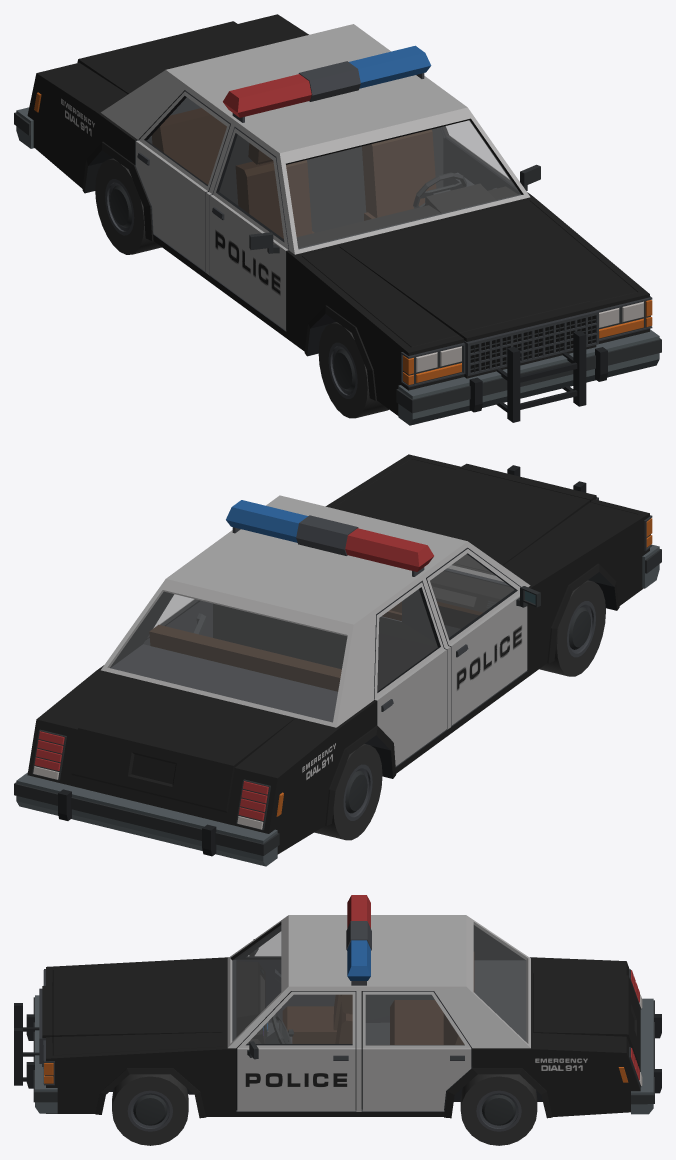
The model's file is 10_SEDAN_POLICE_01.glb.
The picture shows the model from 3 angles, top to bottom: view 1: azimuth 30°, elevation 25°; view 2: azimuth 150°, elevation 25°; view 3: azimuth 270°, elevation 25°; orthographic projection. The views are drawn at different scales.
Parts seen in each view (by area): view 1: POLICE, WINDOWS.002, INTERIOR.011, DOOR FR.002, DOOR BR.002, WHEEL.1R.004, WHEEL.2R.004, WIN BR.004, WIN FR.003, DOOR FL.002, WIN FL.003; view 2: POLICE, WINDOWS.002, DOOR FR.002, INTERIOR.011, DOOR BR.002, WHEEL.1R.004, WHEEL.2R.004, WIN FR.003, WIN BR.004, DOOR BL.003; view 3: POLICE, DOOR FL.002, INTERIOR.011, WINDOWS.002, DOOR BL.003, WHEEL.2L.004, WHEEL.1L.004, WIN BL.004, WIN FL.003, DOOR FR.002, DOOR BR.002, WIN FR.003.
Boxes of the visible parts, bbox=[...] form: POLICE: bbox=[14, 14, 661, 425]; WINDOWS.002: bbox=[286, 120, 520, 248]; INTERIOR.011: bbox=[151, 108, 517, 248]; DOOR FR.002: bbox=[210, 127, 289, 330]; DOOR BR.002: bbox=[136, 91, 230, 271]; WHEEL.1R.004: bbox=[318, 322, 388, 418]; WHEEL.2R.004: bbox=[95, 158, 161, 254]; WIN BR.004: bbox=[147, 98, 226, 184]; WIN FR.003: bbox=[219, 135, 283, 238]; DOOR FL.002: bbox=[441, 120, 540, 194]; WIN FL.003: bbox=[443, 121, 512, 184]; POLICE: bbox=[14, 454, 661, 866]; WINDOWS.002: bbox=[110, 554, 501, 721]; DOOR FR.002: bbox=[426, 548, 540, 725]; INTERIOR.011: bbox=[149, 571, 514, 691]; DOOR BR.002: bbox=[374, 581, 446, 766]; WHEEL.1R.004: bbox=[539, 580, 605, 676]; WHEEL.2R.004: bbox=[314, 744, 382, 840]; WIN FR.003: bbox=[430, 554, 513, 637]; WIN BR.004: bbox=[377, 589, 437, 690]; DOOR BL.003: bbox=[143, 594, 212, 645]; POLICE: bbox=[14, 895, 661, 1118]; DOOR FL.002: bbox=[236, 991, 356, 1111]; INTERIOR.011: bbox=[236, 952, 474, 1044]; WINDOWS.002: bbox=[232, 925, 525, 1040]; DOOR BL.003: bbox=[361, 991, 472, 1111]; WHEEL.2L.004: bbox=[460, 1074, 537, 1145]; WHEEL.1L.004: bbox=[112, 1074, 188, 1145]; WIN BL.004: bbox=[366, 995, 464, 1044]; WIN FL.003: bbox=[247, 995, 352, 1043]; DOOR FR.002: bbox=[236, 927, 335, 1022]; DOOR BR.002: bbox=[365, 994, 434, 1022]; WIN FR.003: bbox=[247, 932, 280, 956].
Bounding box in the file's own units: 2.22 × 1.59 × 5.5.
Materials: 2 (2 with a texture image).
